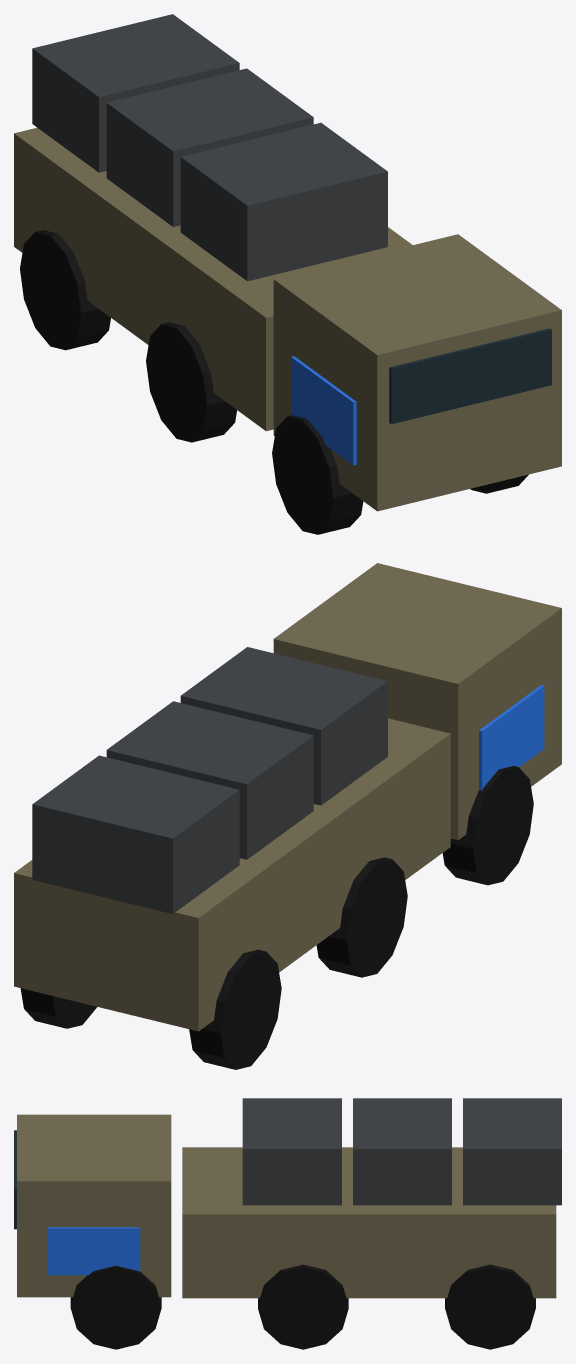
Rendered from us_logistics_truck.glb.
3 renders of one model, top to bottom at view 1: azimuth 30°, elevation 25°; view 2: azimuth 150°, elevation 25°; view 3: azimuth 270°, elevation 25°, orthographic. The views are drawn at different scales.
Parts seen in each view (by area): view 1: cab, body, crate_0, crate_2, crate_1, windshield, wheel_l2, wheel_l1, wheel_l0, team_door_l; view 2: body, cab, crate_2, crate_0, crate_1, wheel_l2, wheel_l1, wheel_l0, team_door_l, wheel_r2; view 3: body, cab, crate_0, crate_1, crate_2, wheel_r1, wheel_r2, wheel_r0, team_door_r.
Boxes of the visible parts, left/top/right/bottom form: cab: left=273, top=234, right=561, bottom=511; body: left=14, top=127, right=412, bottom=431; crate_0: left=180, top=122, right=387, bottom=281; crate_2: left=32, top=14, right=239, bottom=172; crate_1: left=106, top=68, right=313, bottom=226; windshield: left=389, top=328, right=551, bottom=424; wheel_l2: left=20, top=230, right=110, bottom=350; wheel_l1: left=146, top=322, right=236, bottom=442; wheel_l0: left=272, top=415, right=363, bottom=534; team_door_l: left=291, top=356, right=356, bottom=465; body: left=14, top=718, right=450, bottom=1031; cab: left=273, top=563, right=561, bottom=839; crate_2: left=32, top=755, right=239, bottom=913; crate_0: left=180, top=647, right=387, bottom=805; crate_1: left=106, top=701, right=313, bottom=859; wheel_l2: left=189, top=949, right=281, bottom=1069; wheel_l1: left=316, top=857, right=407, bottom=977; wheel_l0: left=442, top=766, right=533, bottom=885; team_door_l: left=479, top=685, right=544, bottom=790; wheel_r2: left=20, top=988, right=96, bottom=1028; body: left=182, top=1147, right=556, bottom=1298; cab: left=17, top=1114, right=171, bottom=1297; crate_0: left=242, top=1098, right=341, bottom=1205; crate_1: left=353, top=1098, right=451, bottom=1205; crate_2: left=463, top=1098, right=561, bottom=1205; wheel_r1: left=258, top=1264, right=348, bottom=1349; wheel_r2: left=445, top=1264, right=535, bottom=1349; wheel_r0: left=70, top=1265, right=161, bottom=1349; team_door_r: left=48, top=1227, right=140, bottom=1275.
Bounding box in the file's own units: 2.5 × 3.04 × 7.97.
